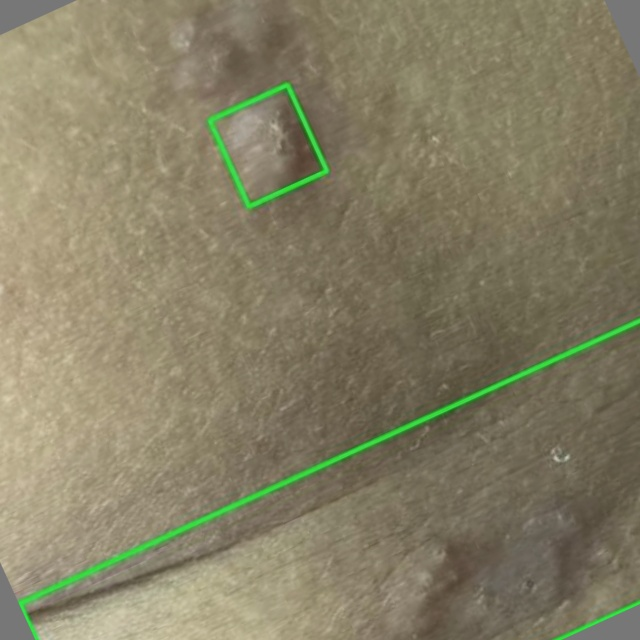Scabies: (209, 84, 326, 206)
